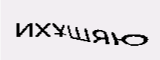А: (99, 24, 132, 60)
Р: (32, 15, 46, 41)
Х: (46, 17, 55, 41)
Щ: (55, 24, 71, 48)
Ю: (72, 28, 98, 54)
